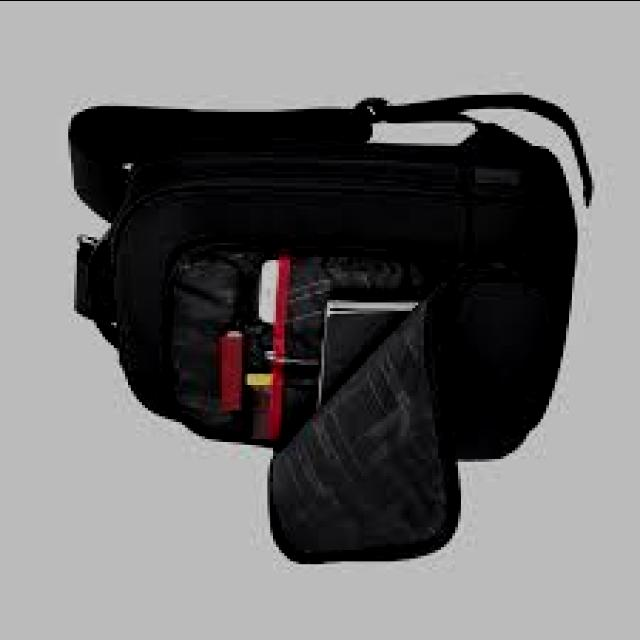backpack: (67, 95, 593, 567)
